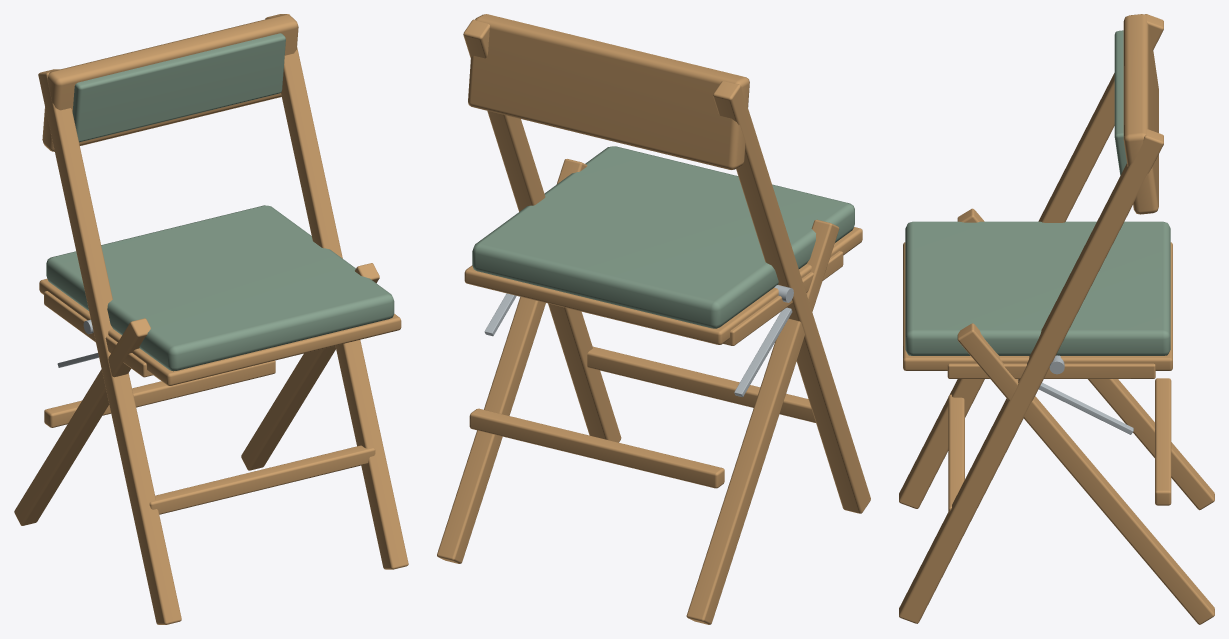
The model's file is folding-dining-chair.glb.
3 views of the same model, side by side, from view 1: azimuth 30°, elevation 25°; view 2: azimuth 150°, elevation 25°; view 3: azimuth 270°, elevation 25° (orthographic). The views are drawn at different scales.
Visible parts, largest first — view 1: catalog_surface_RealismUV; view 2: catalog_surface_RealismUV; view 3: catalog_surface_RealismUV.
Part boxes in pixels (box(x1,y1,x2,y2)): catalog_surface_RealismUV: box(14, 14, 408, 624); catalog_surface_RealismUV: box(437, 14, 870, 624); catalog_surface_RealismUV: box(899, 14, 1214, 624).
Bounding box in the file's own units: 0.46 × 0.84 × 0.49.
